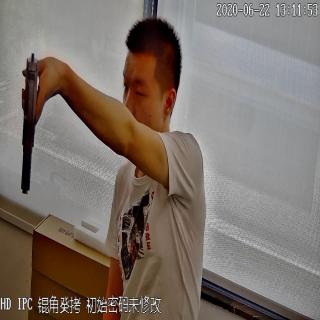gun: (15, 45, 52, 196)
